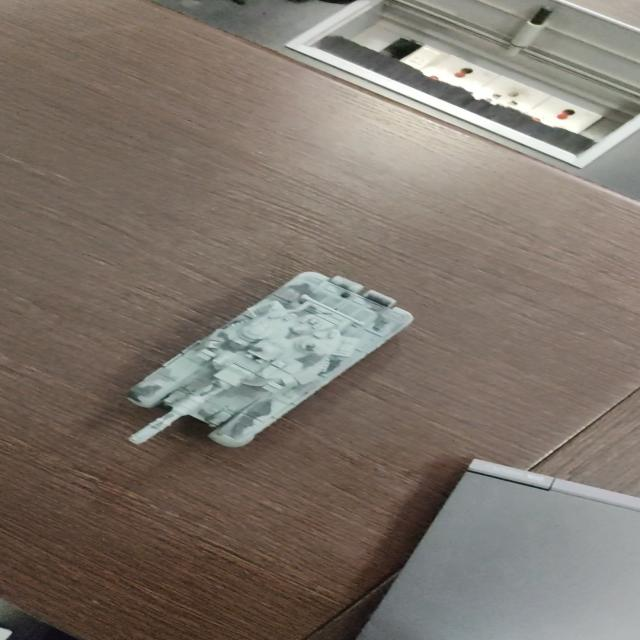tank: (123, 267, 410, 450)
